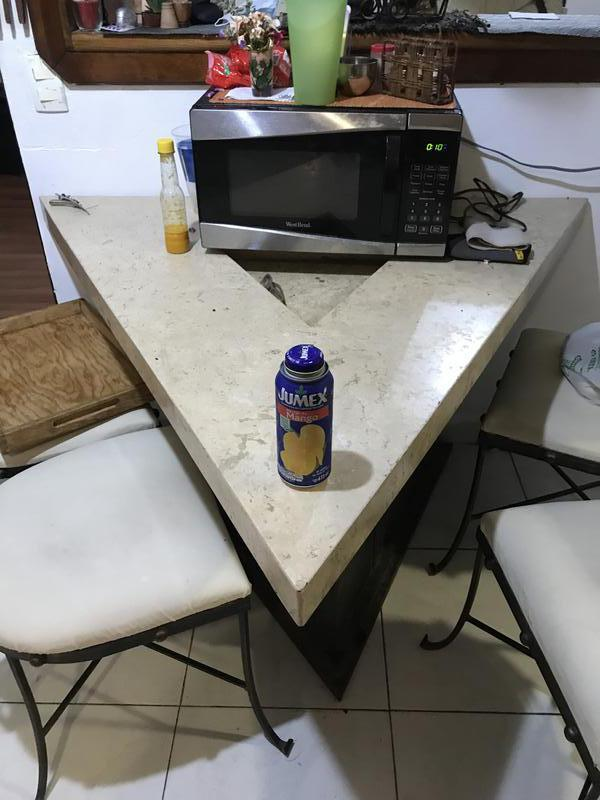jugo_jumex: (272, 345, 335, 487)
